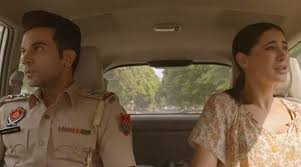Caution: (1, 10, 301, 165)
